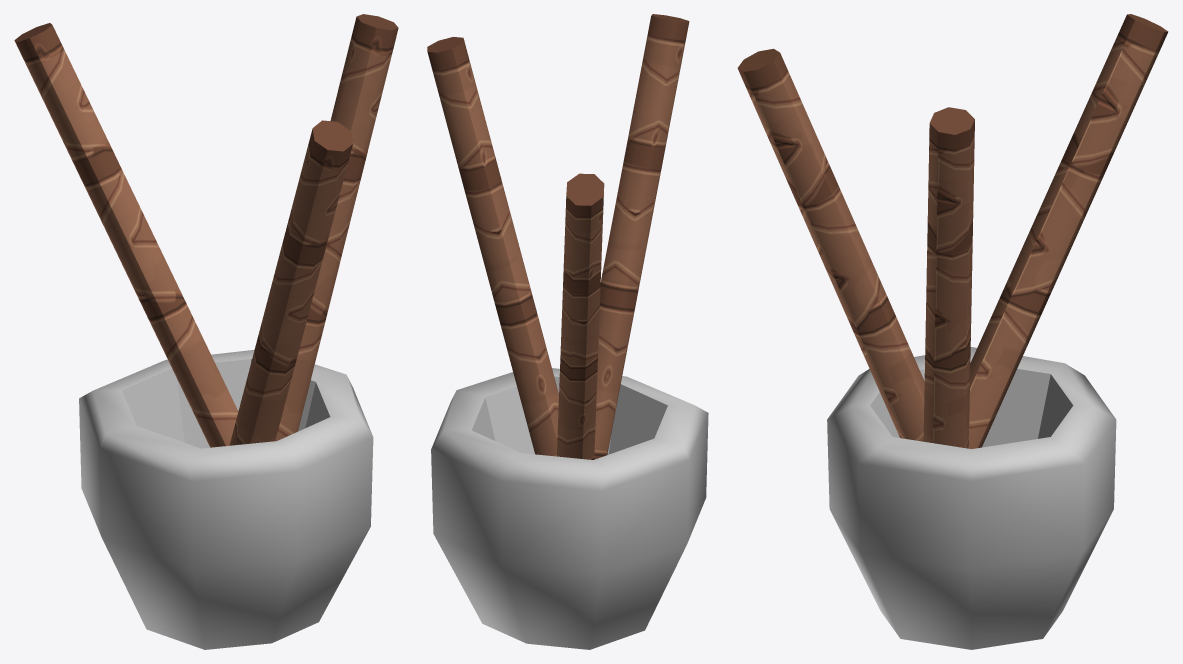
Rendered from table_ornament.fbx.
The picture shows the model from 3 angles, left to right: view 1: azimuth 30°, elevation 25°; view 2: azimuth 150°, elevation 25°; view 3: azimuth 270°, elevation 25°; orthographic projection. The views are drawn at different scales.
Parts seen in each view (by area): view 1: table_ornament_1; view 2: table_ornament_1; view 3: table_ornament_1.
Part boxes in pixels (x1,y1,x2,y2): table_ornament_1: (14,14,398,649); table_ornament_1: (427,14,708,649); table_ornament_1: (737,14,1168,649).
Size of the model in its own units: 24.42 by 46.17 by 31.96.
